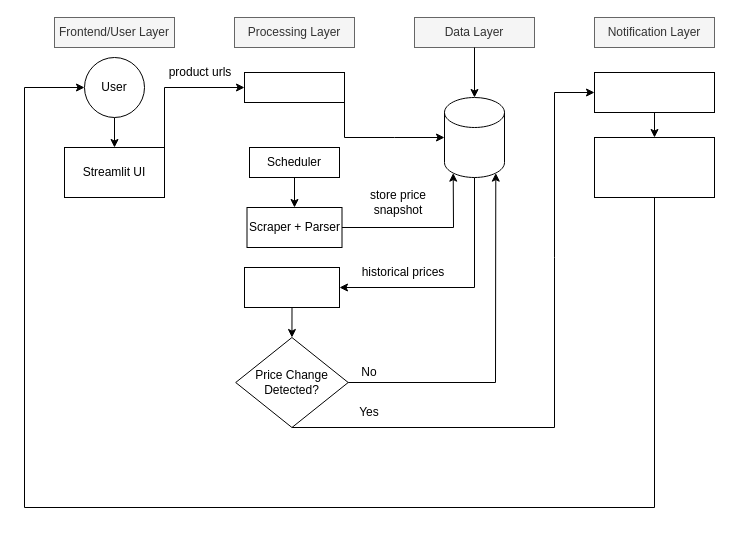
Image size: 732x533. Some labels were removed from this diagram. The shapes that lost their labels are listed below. From the top down, each one's centre as x and y in pixels, then its label:
the point at 294,87: Product Input Handler
the point at 654,92: LLM Notification Generator
the point at 474,137: SQlite Database
the point at 654,167: Notification Service (Email/Alert)
the point at 292,287: Change Detection Engine
